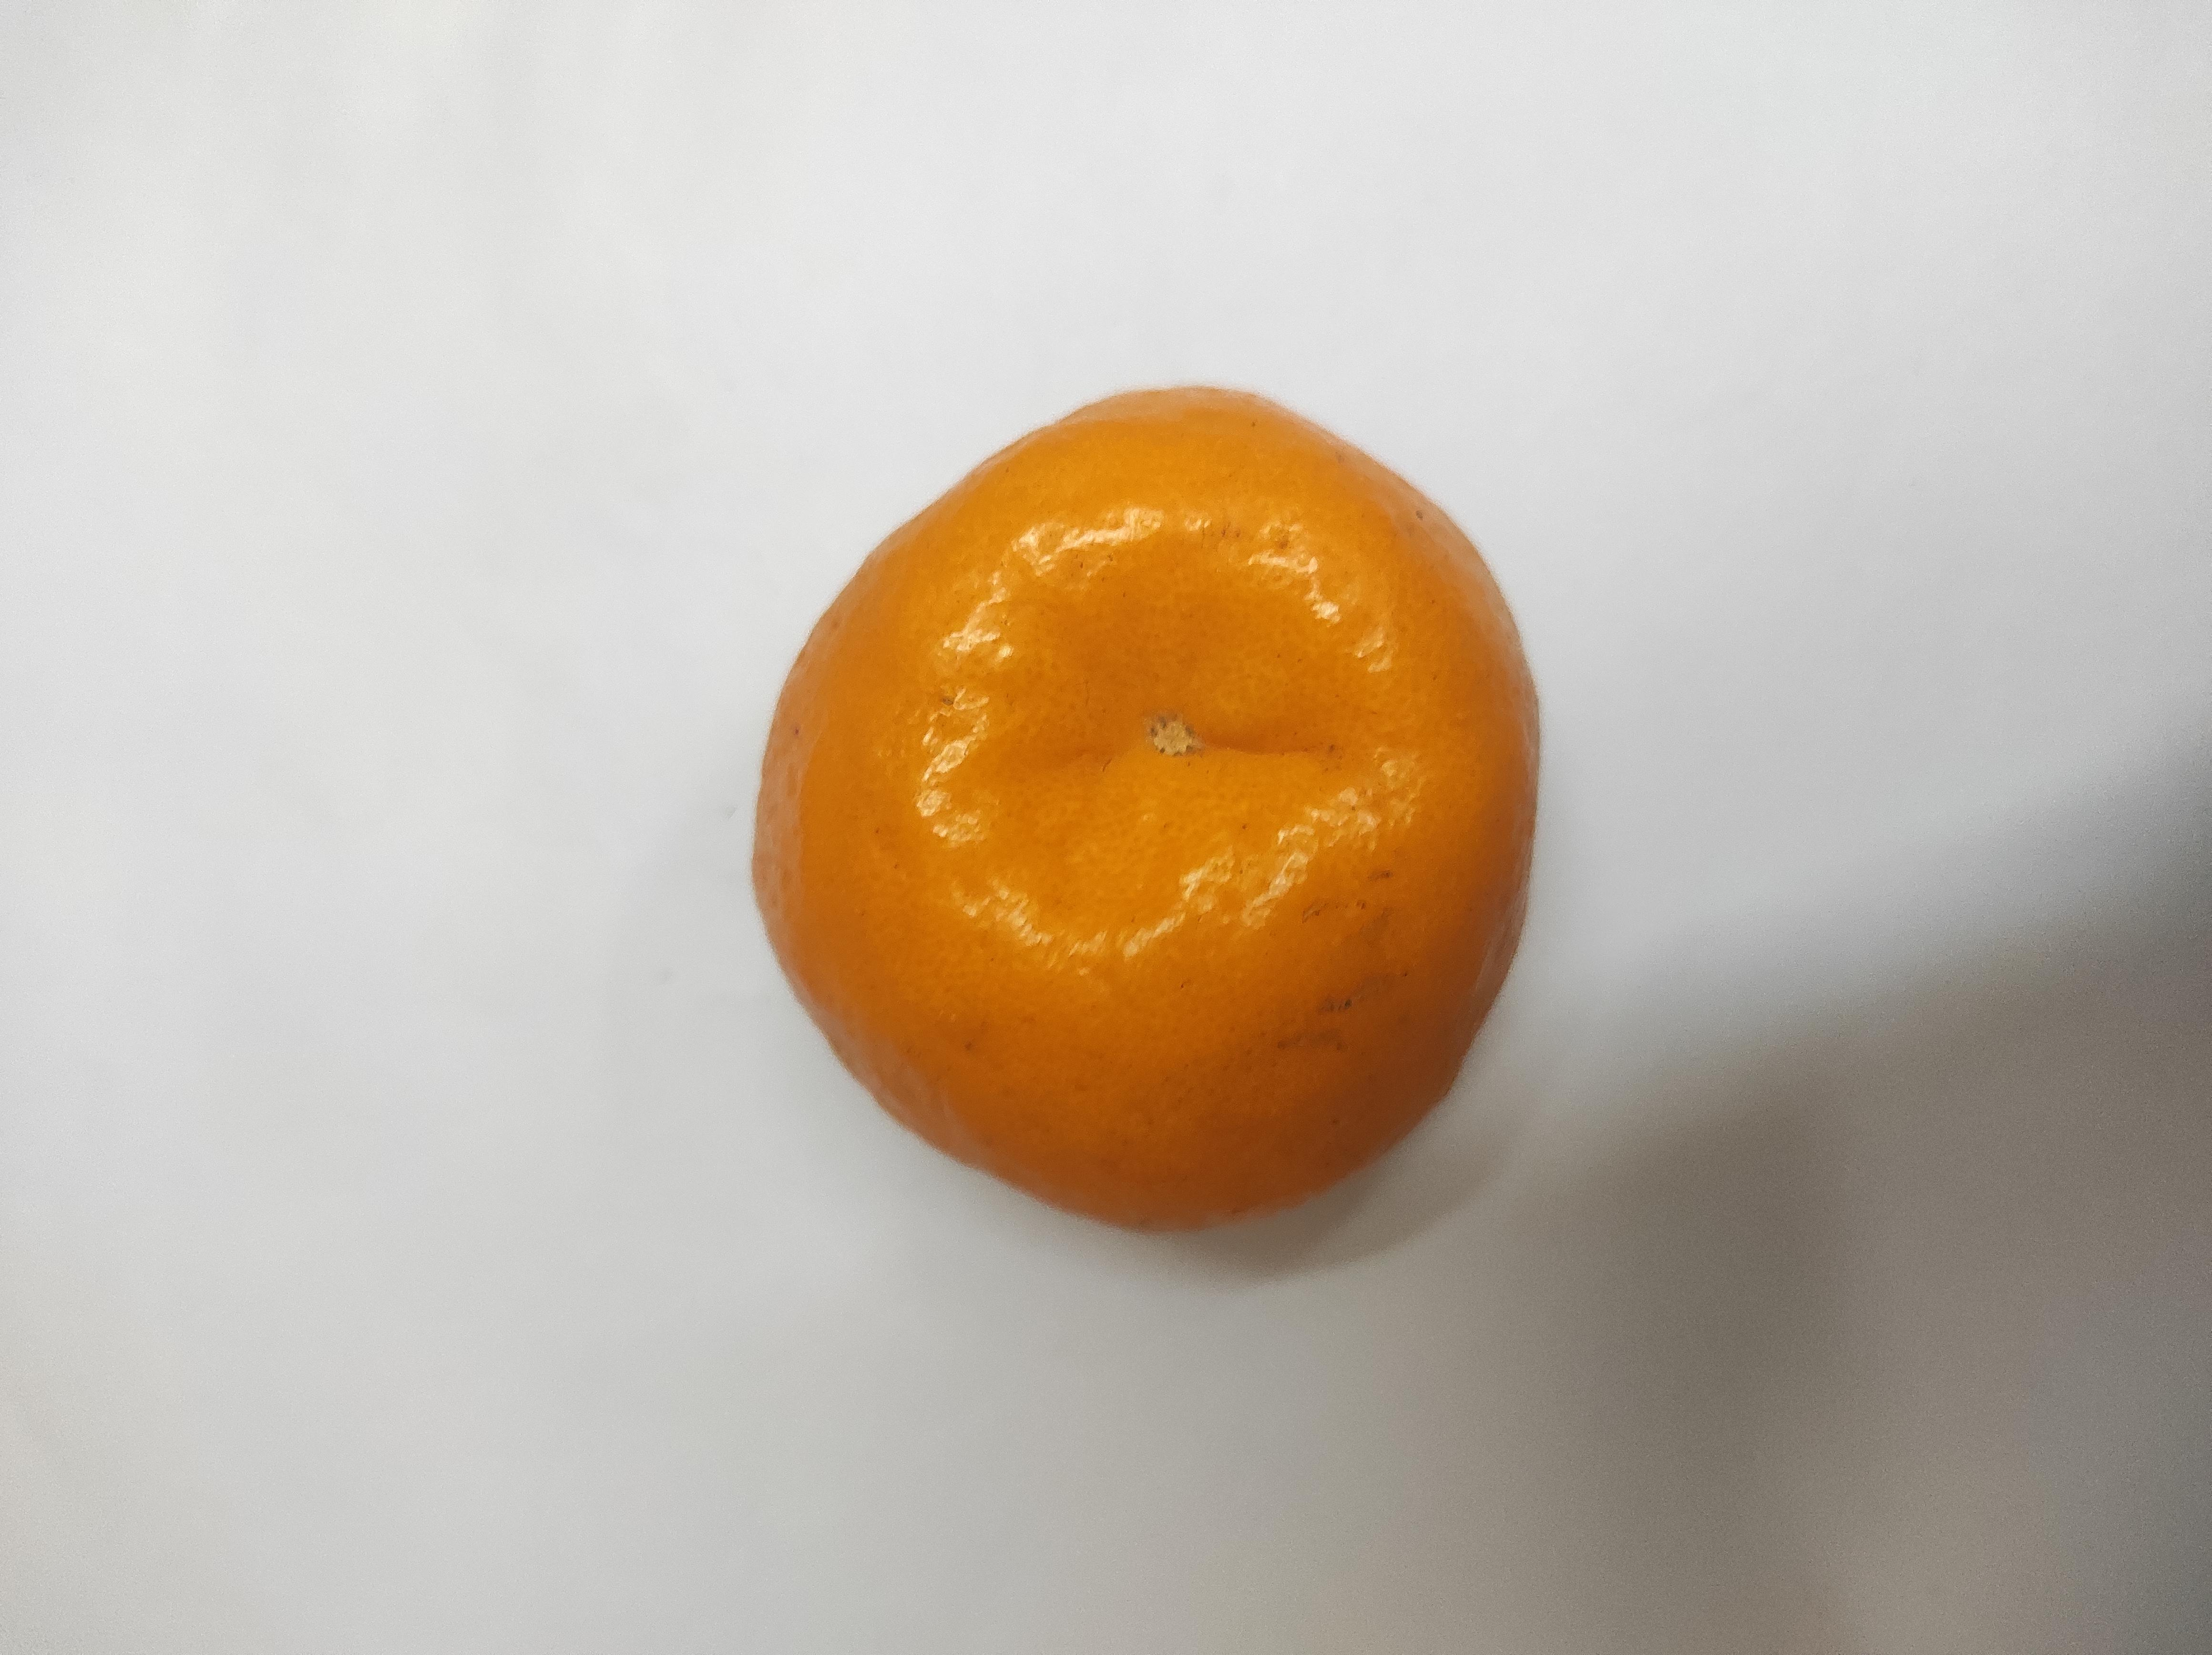Ripe: (744, 391, 1530, 1226)
